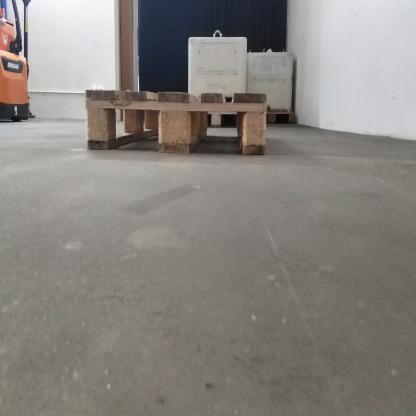BoxFace: (81, 87, 270, 161)
